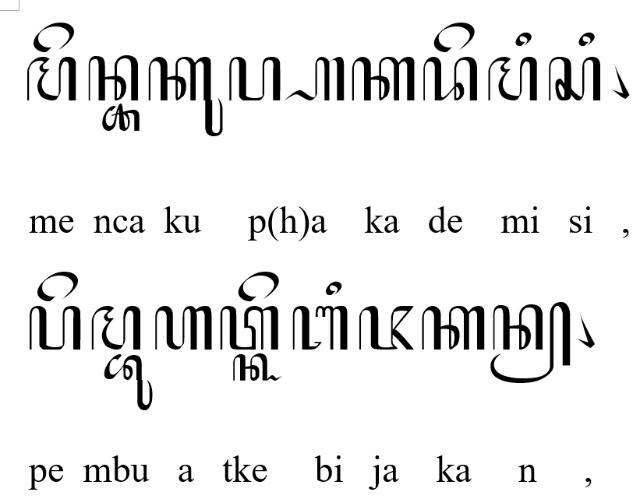-n: (491, 301, 572, 385)
_bu: (103, 353, 153, 411)
_c: (101, 102, 141, 132)
_h: (284, 56, 344, 102)
_k: (232, 354, 282, 382)
b: (292, 304, 348, 352)
d: (422, 55, 478, 101)
e: (433, 20, 475, 52), (36, 271, 78, 303), (237, 271, 279, 303), (33, 22, 75, 53)
h: (154, 304, 214, 352)
i: (578, 31, 596, 47), (514, 31, 532, 46), (326, 282, 342, 296)
j: (359, 305, 415, 351)
k: (350, 56, 416, 102), (420, 305, 486, 351)
kom: (608, 61, 630, 98), (576, 311, 596, 349)
ku: (148, 56, 225, 138)
m: (486, 56, 538, 102), (90, 305, 142, 351), (26, 56, 76, 102)
n: (87, 54, 139, 100)
p: (28, 304, 82, 352), (228, 54, 282, 101)
s: (548, 56, 602, 102)
t: (220, 306, 280, 352)
